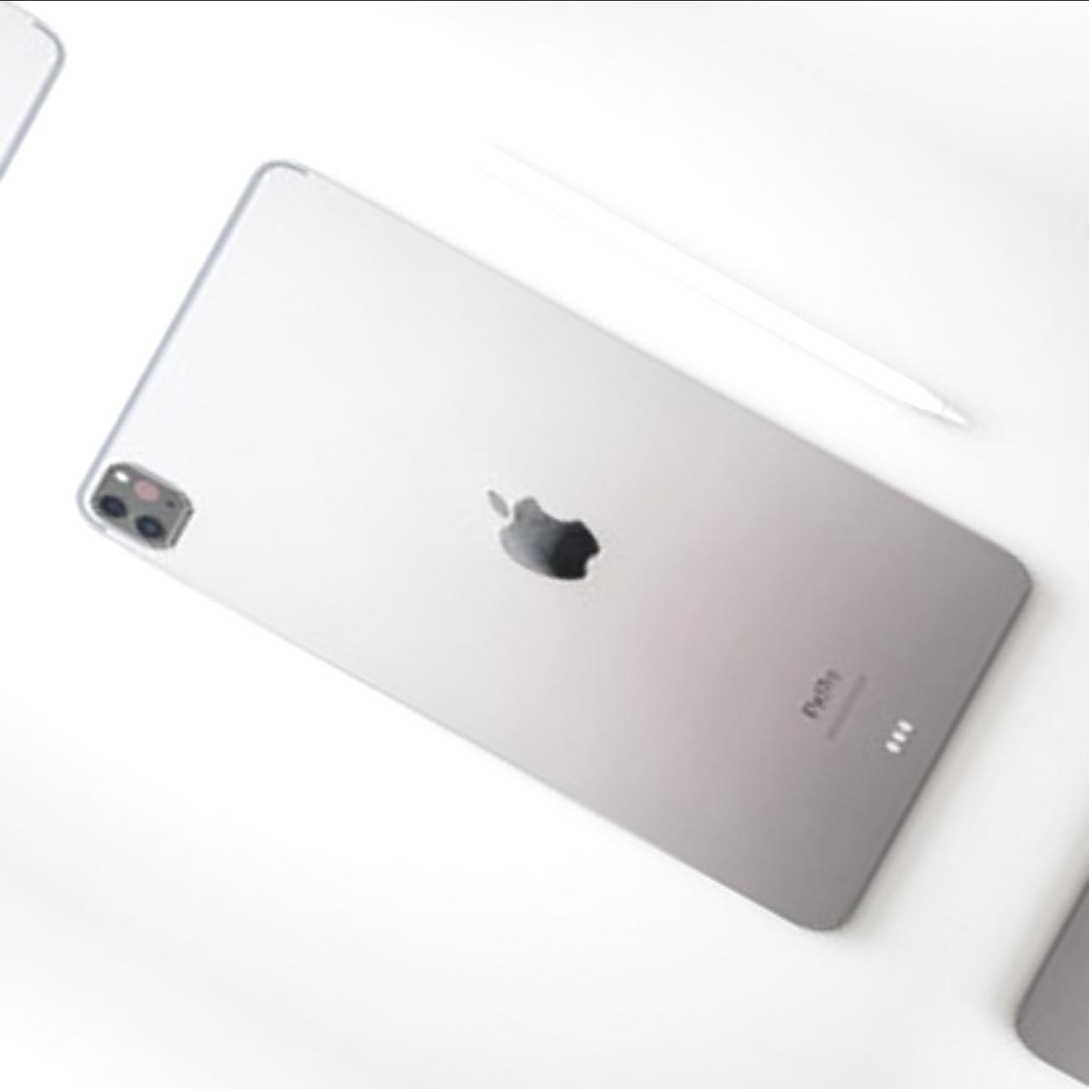Tablet_PC: (50, 122, 1068, 959)
